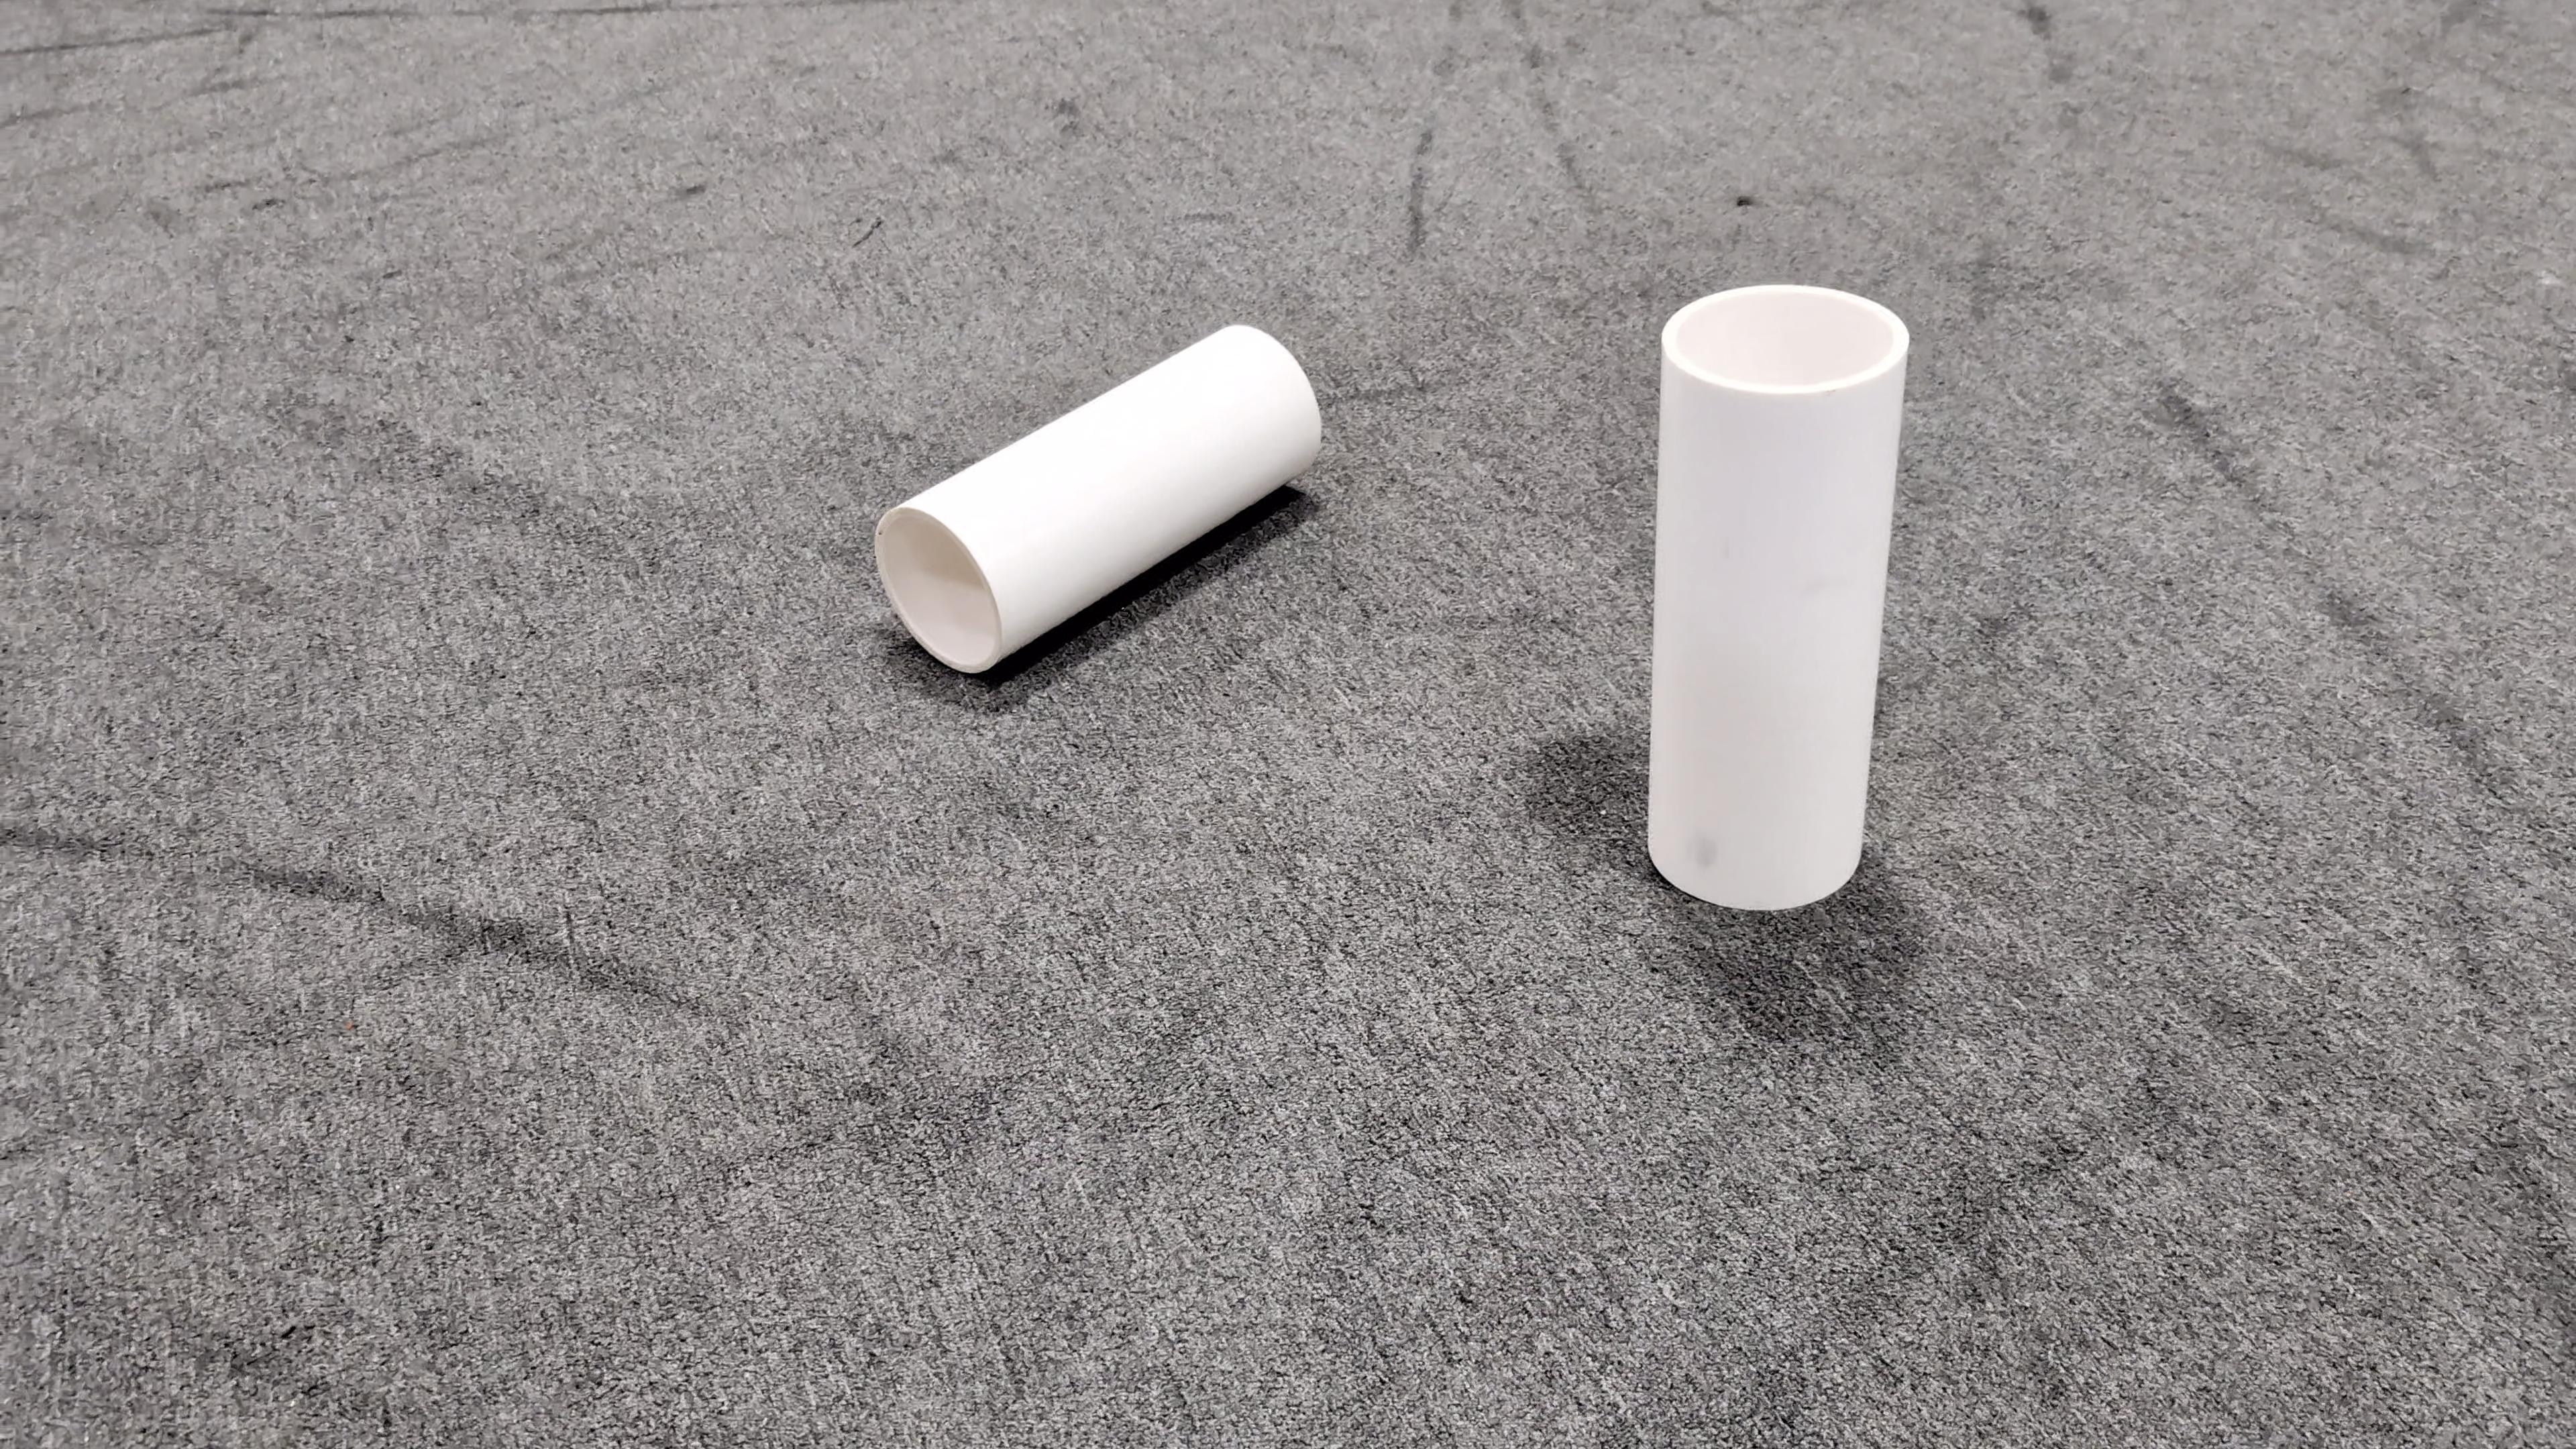coral: (1638, 280, 1911, 911), (872, 318, 1329, 674)
